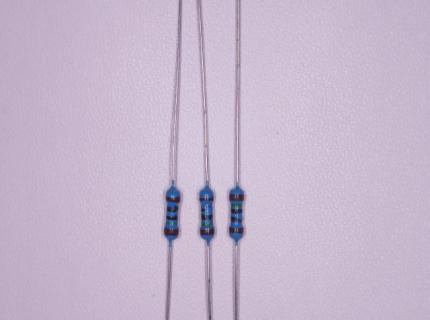Black band: (201, 214, 213, 220), (231, 217, 242, 223), (166, 207, 179, 212), (201, 207, 213, 212), (166, 215, 178, 220), (231, 209, 242, 214)
Brown band: (164, 228, 178, 236), (229, 194, 244, 201), (166, 196, 180, 203), (200, 229, 215, 235), (229, 227, 244, 233), (199, 197, 214, 202)
Green band: (201, 222, 213, 226), (231, 204, 242, 208), (166, 222, 177, 225)
